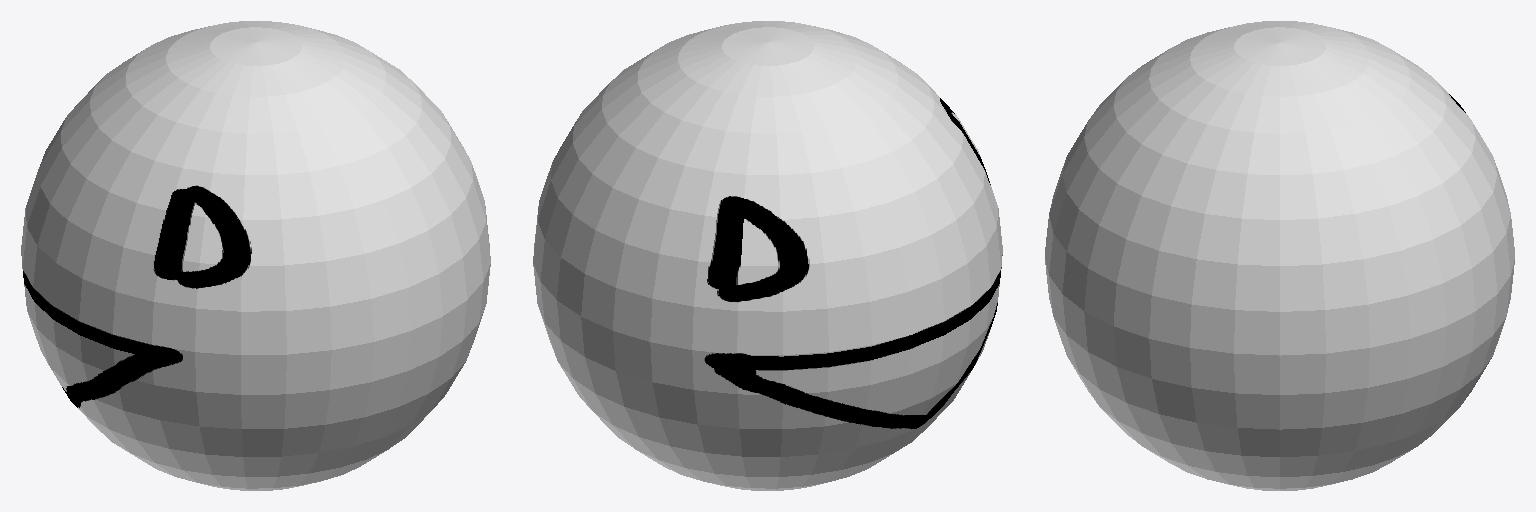
The picture shows the model from 3 angles: view 1: azimuth 30°, elevation 25°; view 2: azimuth 150°, elevation 25°; view 3: azimuth 270°, elevation 25°; orthographic projection.
Parts seen in each view (by area): view 1: playerModel; view 2: playerModel; view 3: playerModel.
Boxes of the visible parts, x1=… form: playerModel: x1=21, y1=21, x2=490, y2=490; playerModel: x1=533, y1=21, x2=1002, y2=490; playerModel: x1=1045, y1=21, x2=1514, y2=490.
Bounding box in the file's own units: 1 × 1 × 1.
1 materials, 1 textured.